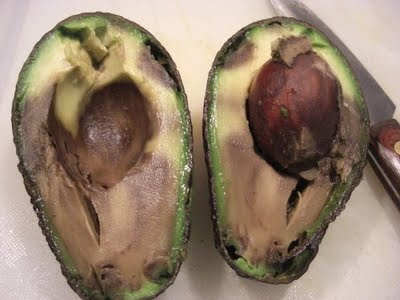damaged_avocado: (11, 16, 192, 300), (202, 16, 373, 285)
